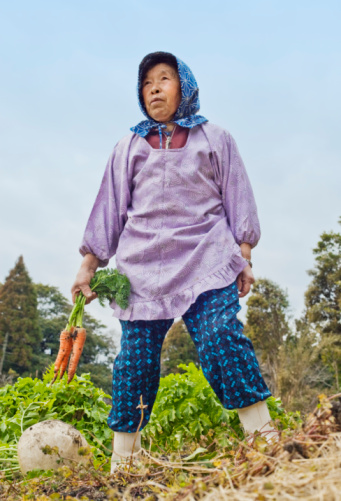em pe: (74, 21, 269, 456)
